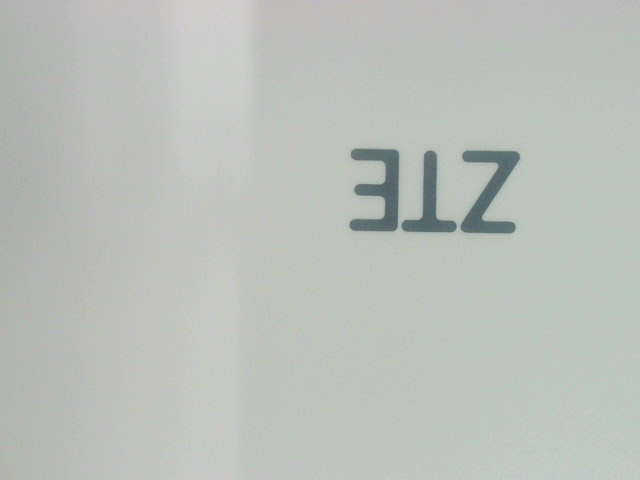AN_ZTE: (346, 139, 529, 242)
